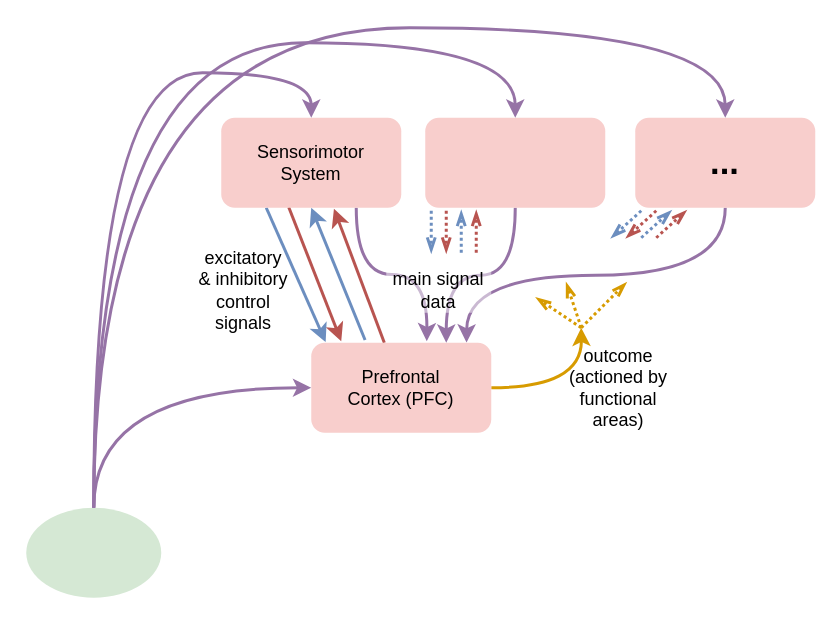
Image size: 840x623. Some labels were removed from this diagram. Here are the shapes that lost their labels. From the top down, the centre of each, then its label:
At point (514, 162): "Visual Cortex".
At point (93, 552): "signal".
